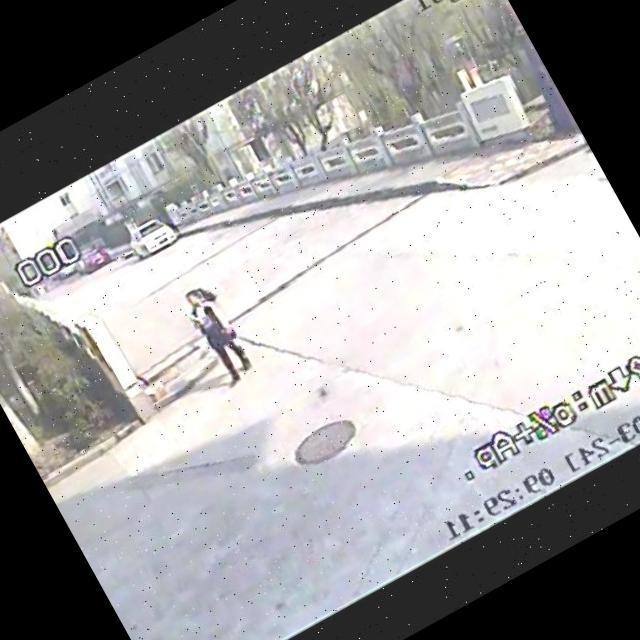person: (170, 278, 262, 396)
